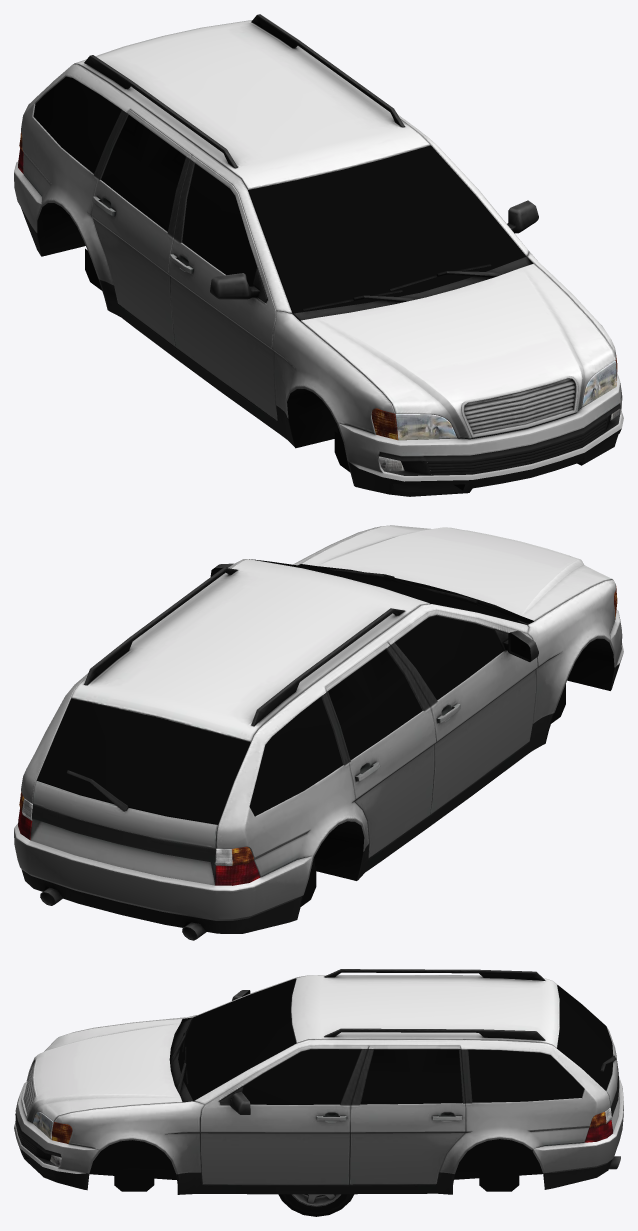
File: gen-wagon.lod.glb
3 views of the same model, one above another, from view 1: azimuth 30°, elevation 25°; view 2: azimuth 150°, elevation 25°; view 3: azimuth 270°, elevation 25° (orthographic). The views are drawn at different scales.
Parts seen in each view (by area): view 1: body; view 2: body; view 3: body, wheel.
Boxes of the visible parts, x1=… form: body: x1=14, y1=14, x2=623, y2=496; body: x1=14, y1=525, x2=623, y2=940; body: x1=14, y1=969, x2=623, y2=1194; wheel: x1=278, y1=1194, x2=354, y2=1216.
Bounding box in the file's own units: 1.95 × 1.68 × 4.38.
Materials: 6 (5 with a texture image).
